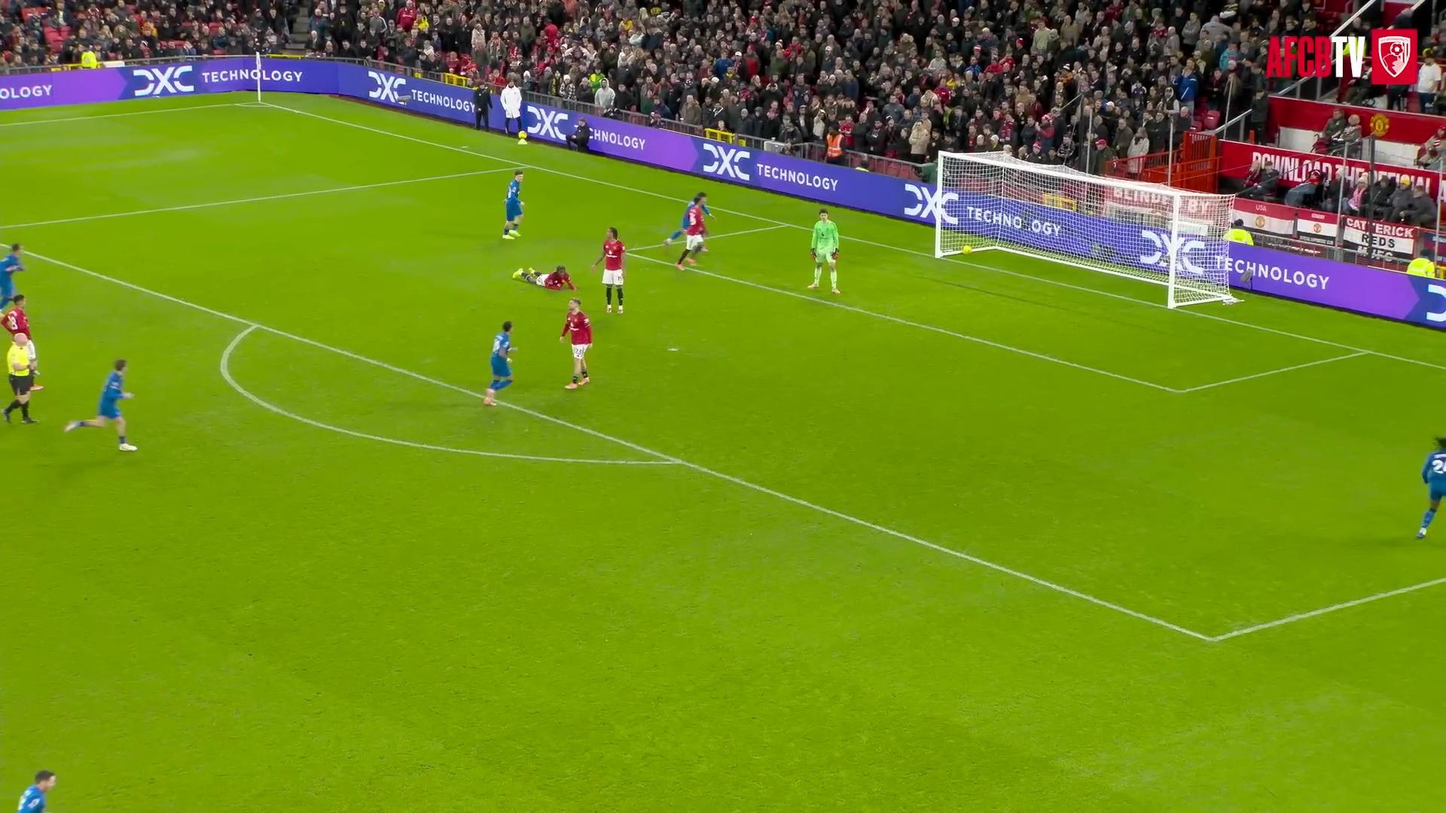football: (958, 232, 981, 260)
player: (65, 359, 136, 451), (0, 294, 38, 376), (591, 228, 626, 314), (560, 297, 591, 389), (1417, 437, 1445, 537), (808, 209, 838, 294), (664, 193, 712, 245), (484, 321, 513, 405), (676, 206, 703, 269), (17, 770, 56, 812), (0, 243, 24, 308), (513, 266, 576, 290), (502, 169, 523, 239)
referee: (4, 333, 37, 422)
